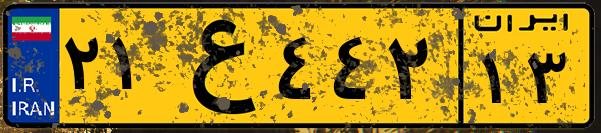1: (475, 38, 525, 113), (110, 28, 158, 98)
2: (385, 28, 445, 110), (57, 26, 110, 100)
3: (525, 38, 570, 115)
4: (270, 28, 330, 110), (330, 28, 385, 110)
ع: (158, 12, 270, 120)
